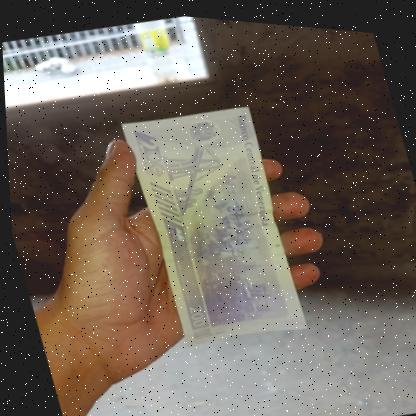two_hundred-back-vef: (117, 91, 309, 354)
